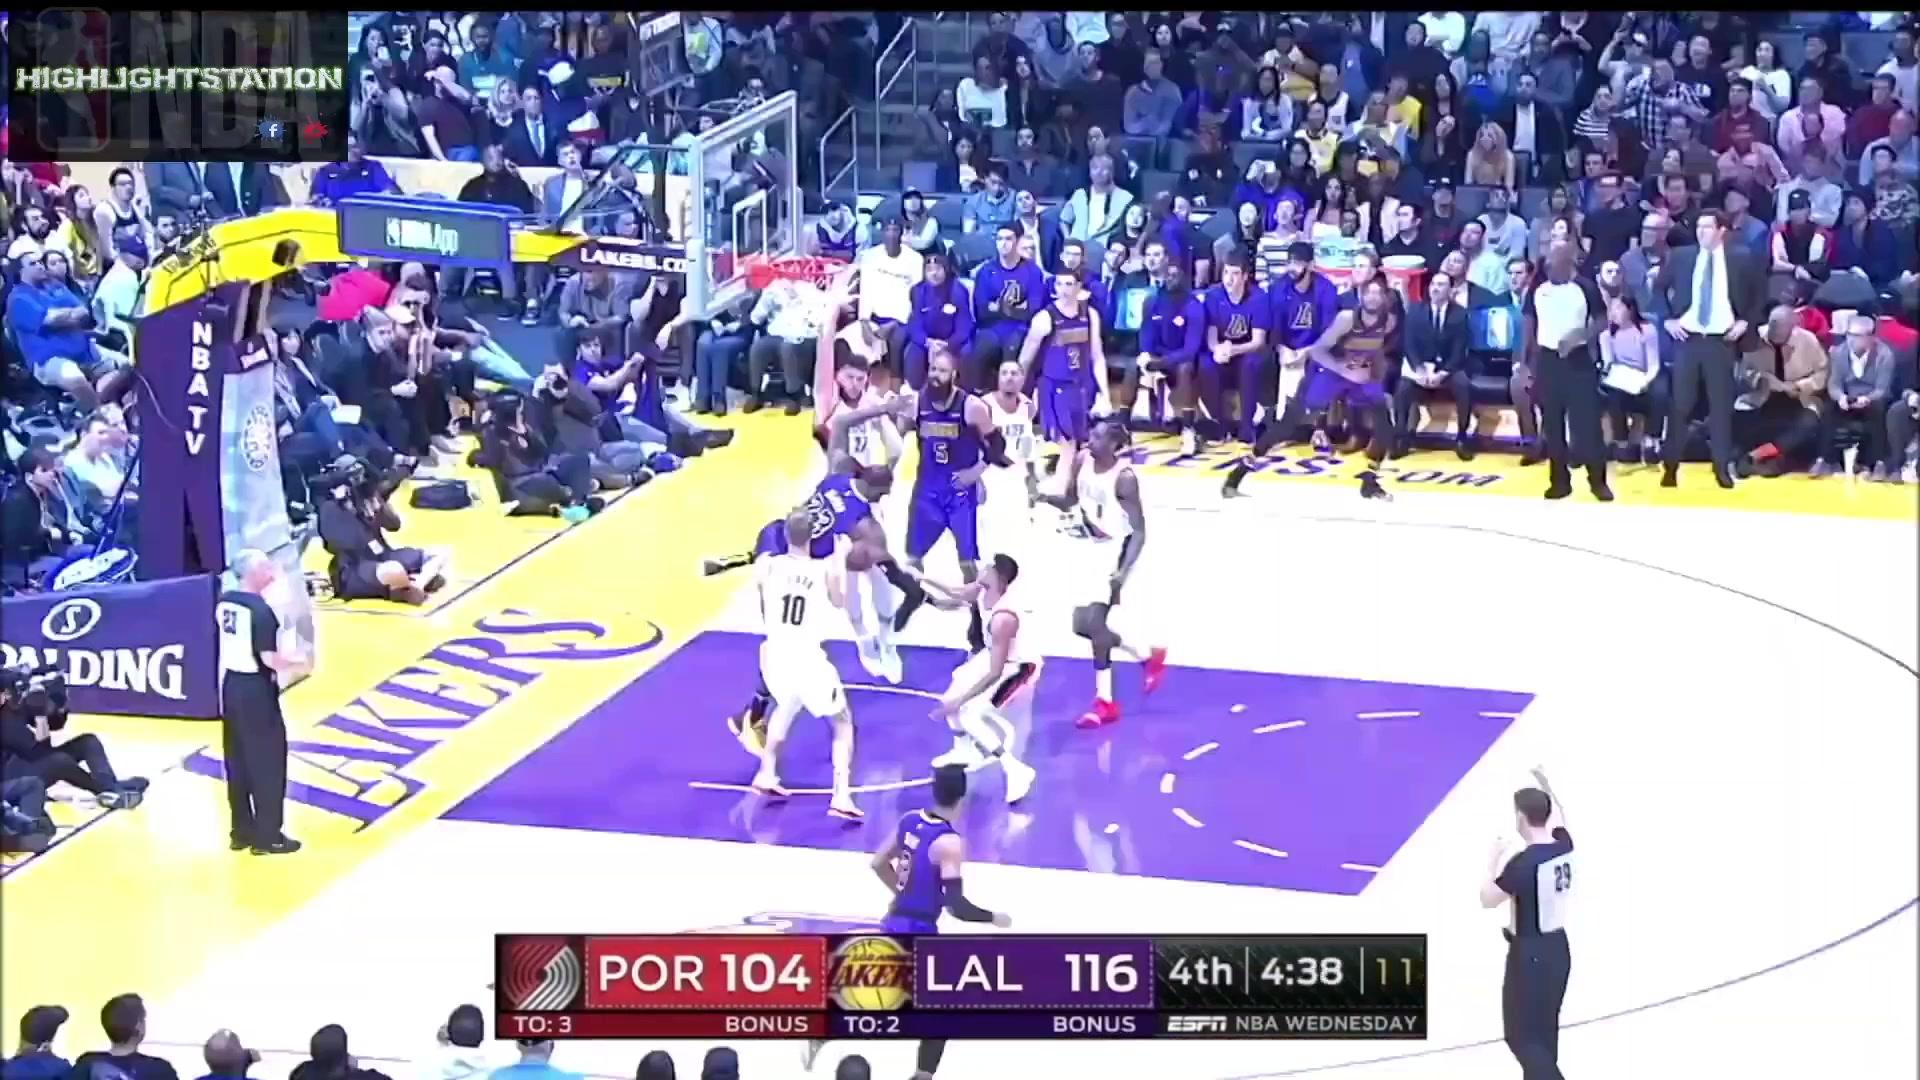no_foul: (687, 462, 928, 815)
